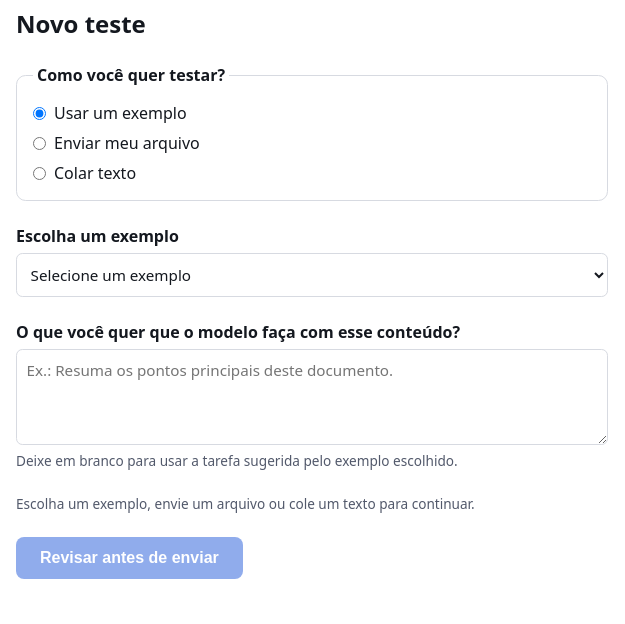
Scenario: ComposeScreen -- entry modes and labels come from copy.ts › switches to the paste textarea and enables submit once text is entered
Step 1. Click the radio button labelled "Colar texto" → (40, 173), box top-left (33, 166), bottom-right (46, 180)
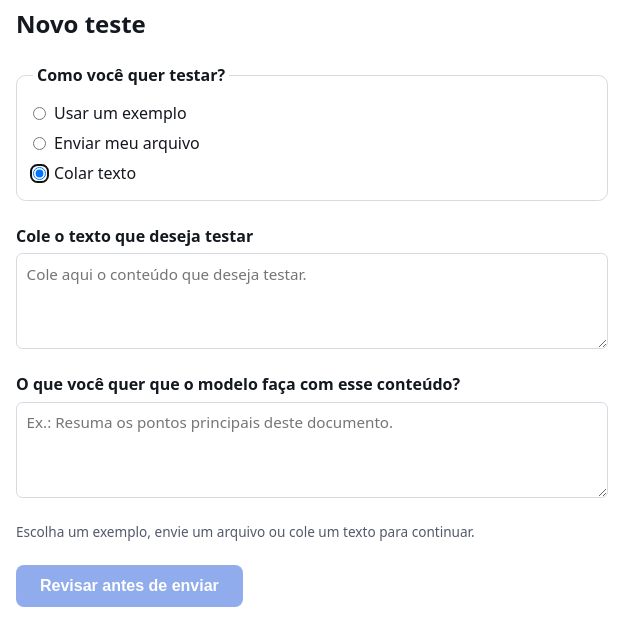
Expected: the button "Revisar antes de enviar" is disabled, top-left (16, 565), bottom-right (243, 607)
Step 2. Type "algum conteúdo" into the text box labelled "Cole o texto que deseja testar" → (312, 301), box top-left (16, 253), bottom-right (608, 349)
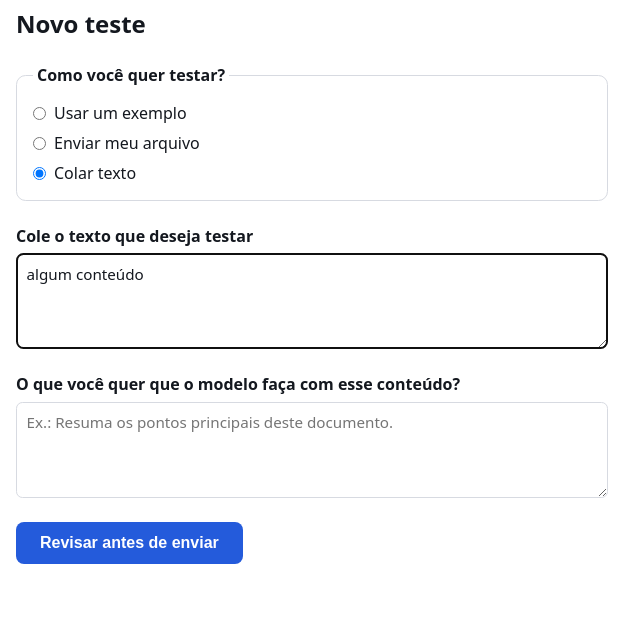
Expected: the button "Revisar antes de enviar" is enabled, top-left (16, 522), bottom-right (243, 564)
